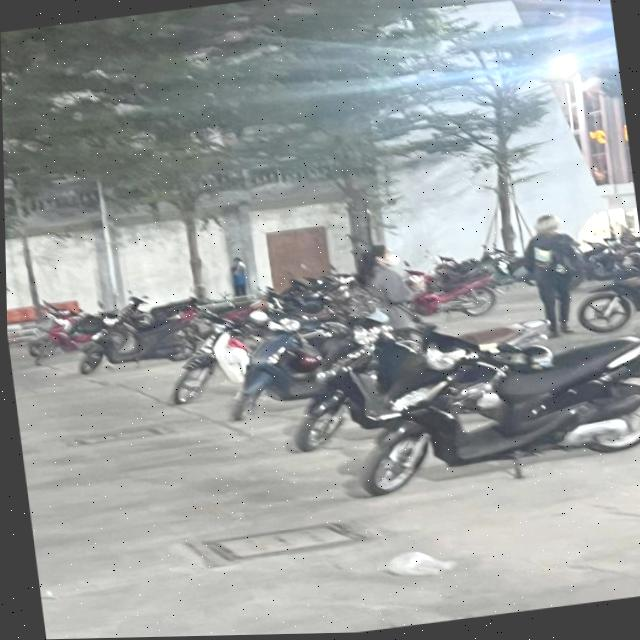motorcycle: (352, 300, 640, 525), (274, 304, 395, 461), (222, 302, 311, 433), (160, 301, 240, 414)
